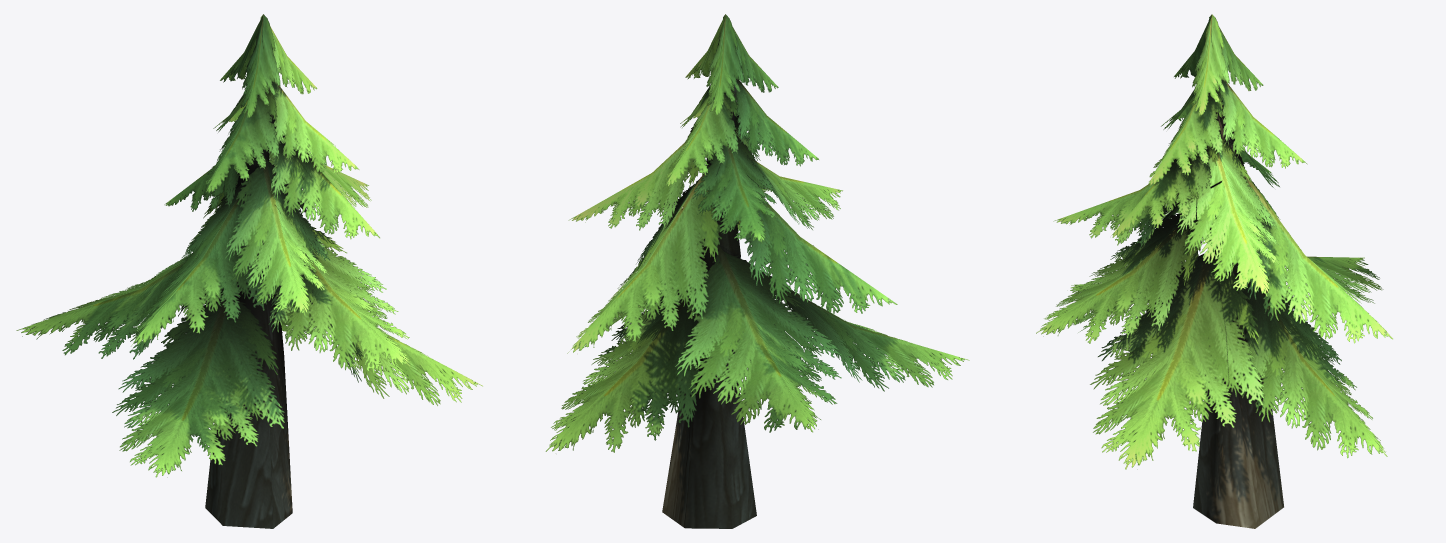
File: Mod_WM_Tree_Pine_04.fbx
3 views of the same model, side by side, from view 1: azimuth 30°, elevation 25°; view 2: azimuth 150°, elevation 25°; view 3: azimuth 270°, elevation 25° (orthographic). The views are drawn at different scales.
Visible parts, largest first — view 1: polySurface279; view 2: polySurface279; view 3: polySurface279.
Part boxes in pixels (<box>): polySurface279: <box>16,14,482,528</box>; polySurface279: <box>545,14,969,528</box>; polySurface279: <box>1036,14,1392,528</box>.
Size of the model in its own units: 101 by 114 by 88.4.
1 material, 1 textured.
